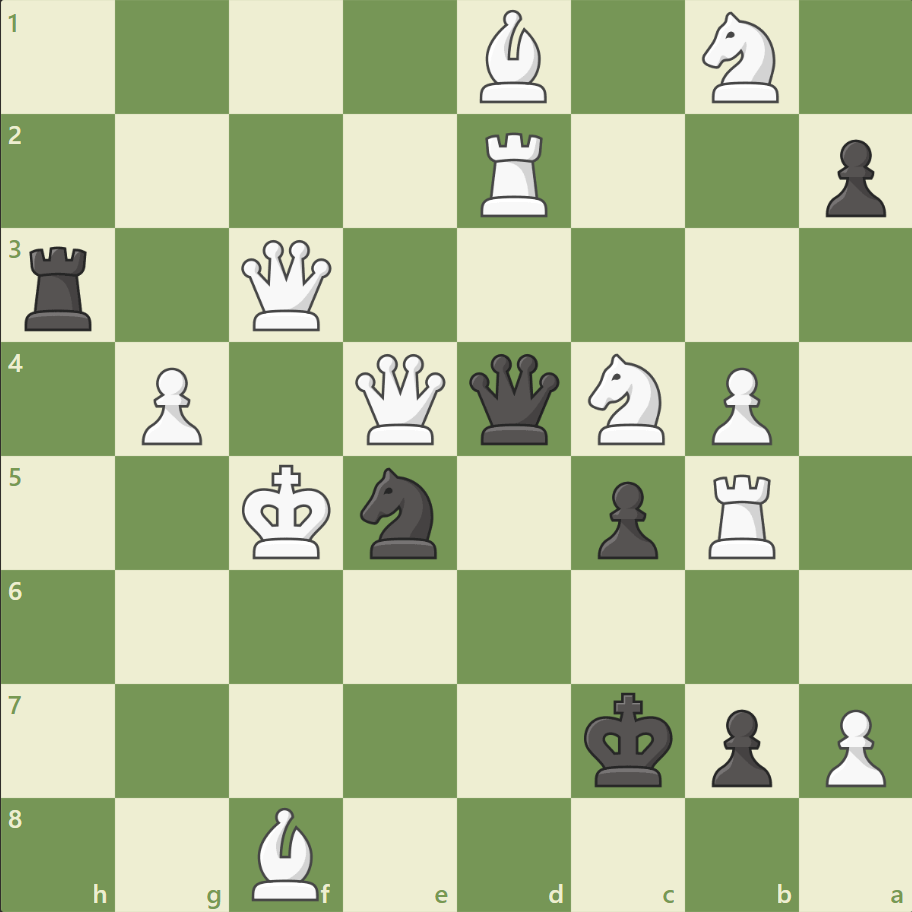B: (244, 801, 328, 904), (471, 6, 555, 109)
K: (238, 458, 338, 566)
N: (692, 7, 789, 110), (579, 348, 676, 450)
P: (701, 359, 776, 450), (133, 359, 208, 450), (815, 700, 889, 791)
Q: (351, 349, 450, 449), (237, 236, 336, 335)
R: (700, 466, 783, 563), (473, 125, 556, 222)
k: (579, 685, 679, 793)
n: (351, 461, 449, 564)
p: (701, 700, 776, 791), (588, 473, 662, 564), (815, 132, 889, 223)
q: (464, 349, 563, 449)
r: (19, 239, 102, 336)
